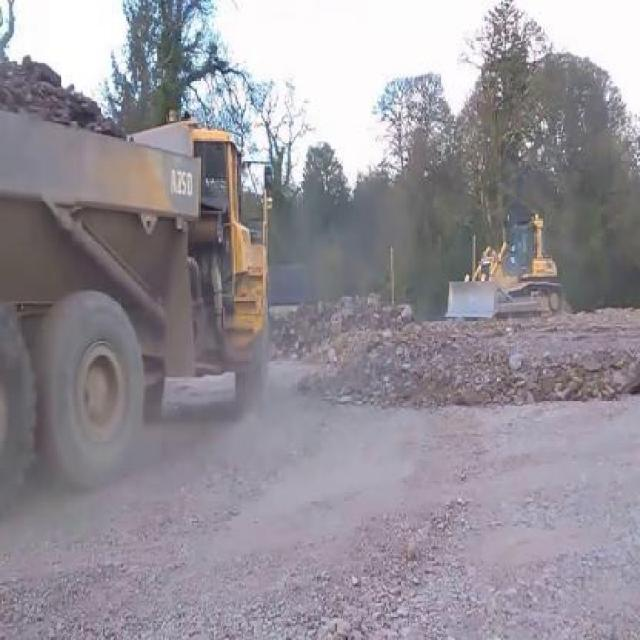Dump Truck: (0, 120, 268, 486)
